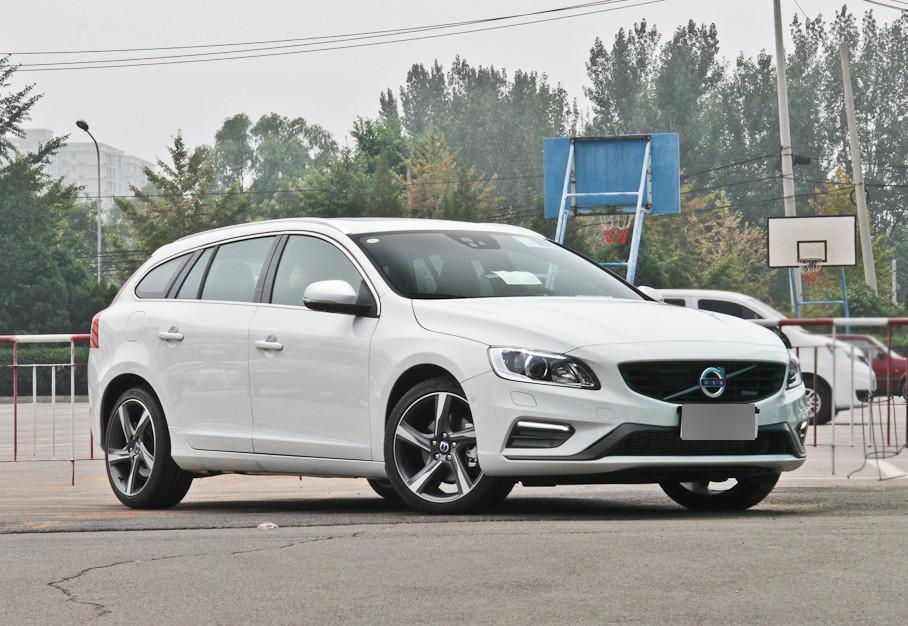Wagon: (86, 216, 810, 514)
